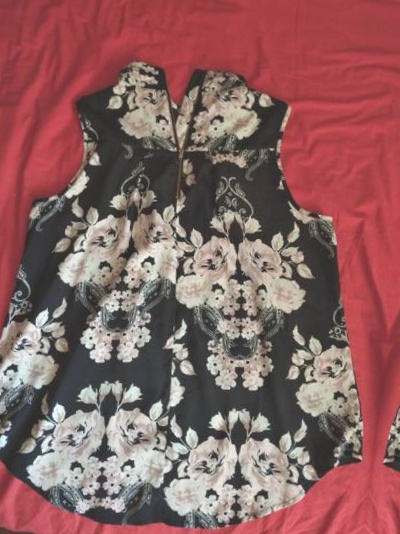Blouse: (0, 37, 400, 534), (372, 89, 400, 534)
